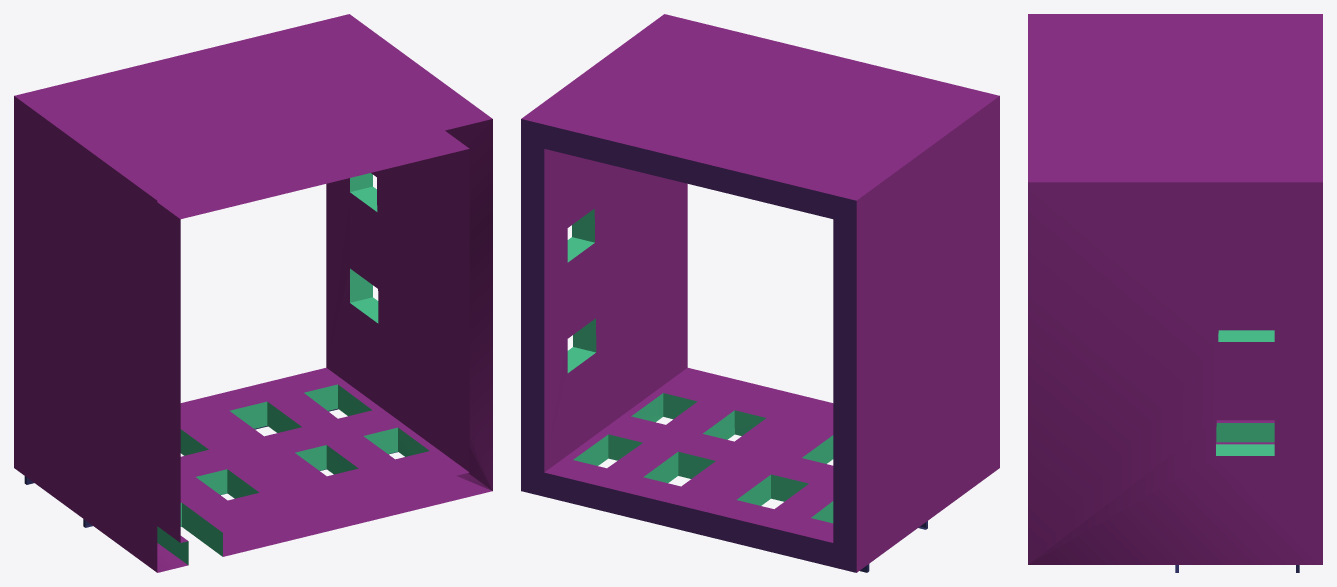
Rendered from Dom Gąski Tier 2.fbx.
3 views of the same model, side by side, from view 1: azimuth 30°, elevation 25°; view 2: azimuth 150°, elevation 25°; view 3: azimuth 270°, elevation 25° (orthographic). The views are drawn at different scales.
Visible parts, largest first — view 1: dom_gąski_w_radomiu_2; view 2: dom_gąski_w_radomiu_2; view 3: dom_gąski_w_radomiu_2.
Part boxes in pixels (x1,y1,x2,y2): dom_gąski_w_radomiu_2: [14, 14, 492, 572]; dom_gąski_w_radomiu_2: [521, 14, 999, 572]; dom_gąski_w_radomiu_2: [1028, 14, 1322, 572].
Size of the model in its own units: 2.94 by 3.18 by 2.18.
